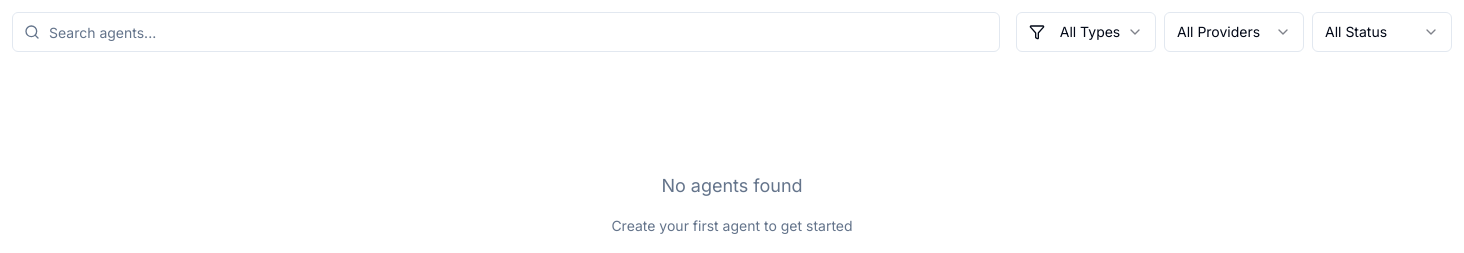
Test: AgentList › should show empty state message with search suggestion when filtered
expect the text "No agents found" is shown: met, box x1=661 y1=172 x2=803 y2=200
Type "nonexistent" into the field with placeholder "Search agents...". click: (506, 32)
box: x1=12 y1=12 x2=1000 y2=52
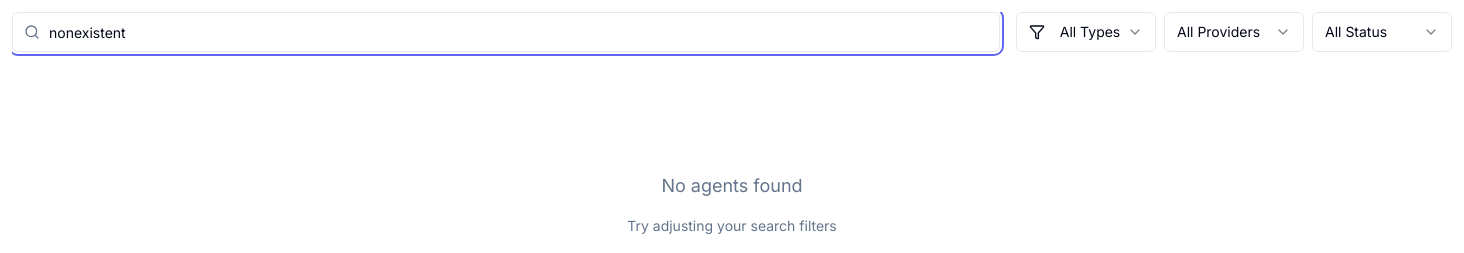
expect the text "Try adjusting your search filters" is shown: met, box x1=627 y1=216 x2=837 y2=236
